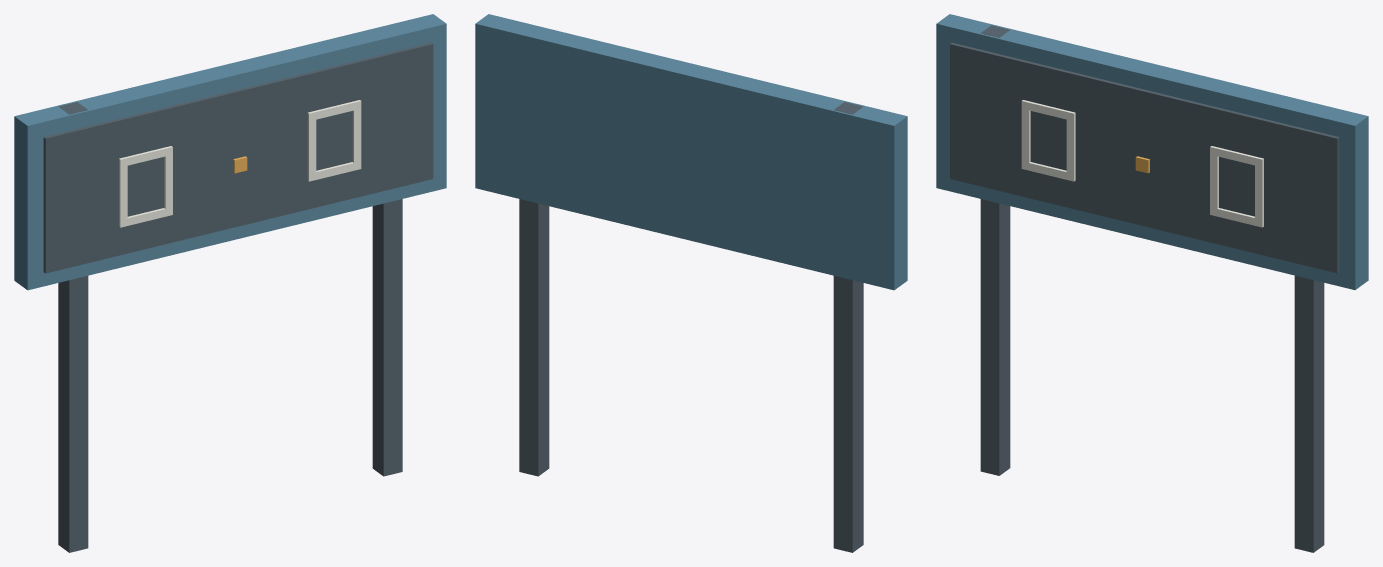
Rendered from cc0_scoreboard.glb.
3 views of the same model, side by side, from view 1: azimuth 30°, elevation 25°; view 2: azimuth 150°, elevation 25°; view 3: azimuth 330°, elevation 25° (orthographic).
Parts seen in each view (by area): view 1: scoreboard; view 2: scoreboard; view 3: scoreboard.
Part boxes in pixels (<box>): scoreboard: <box>14,14,446,552</box>; scoreboard: <box>475,14,907,552</box>; scoreboard: <box>936,14,1368,552</box>.
Bounding box in the file's own units: 4 × 4 × 0.2826.
